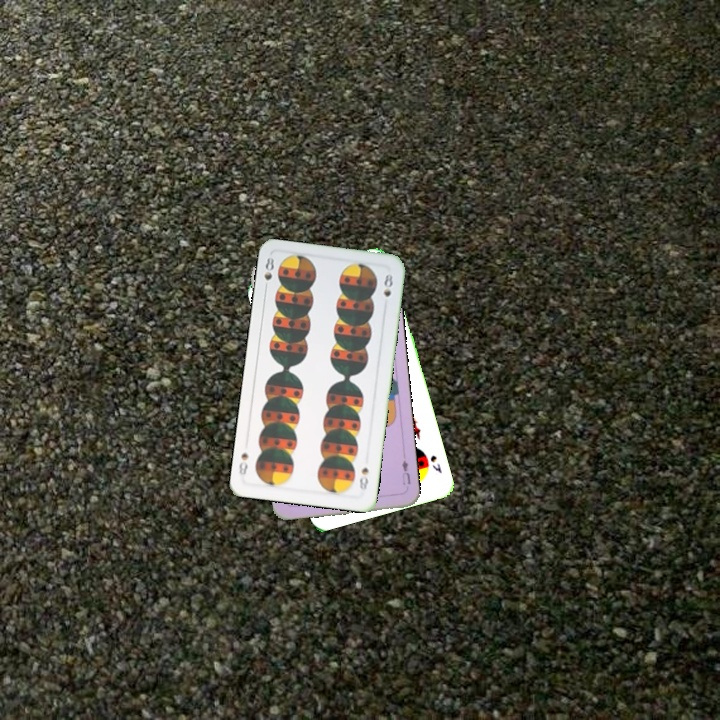EU: (398, 456, 413, 487)
S8: (260, 253, 276, 294), (355, 463, 371, 493)
SK: (426, 451, 444, 476)
